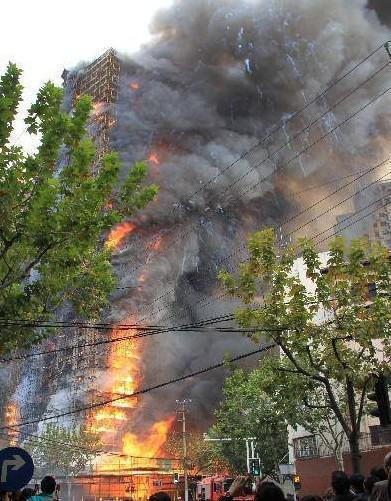fire: (94, 323, 184, 475), (105, 222, 159, 275)
